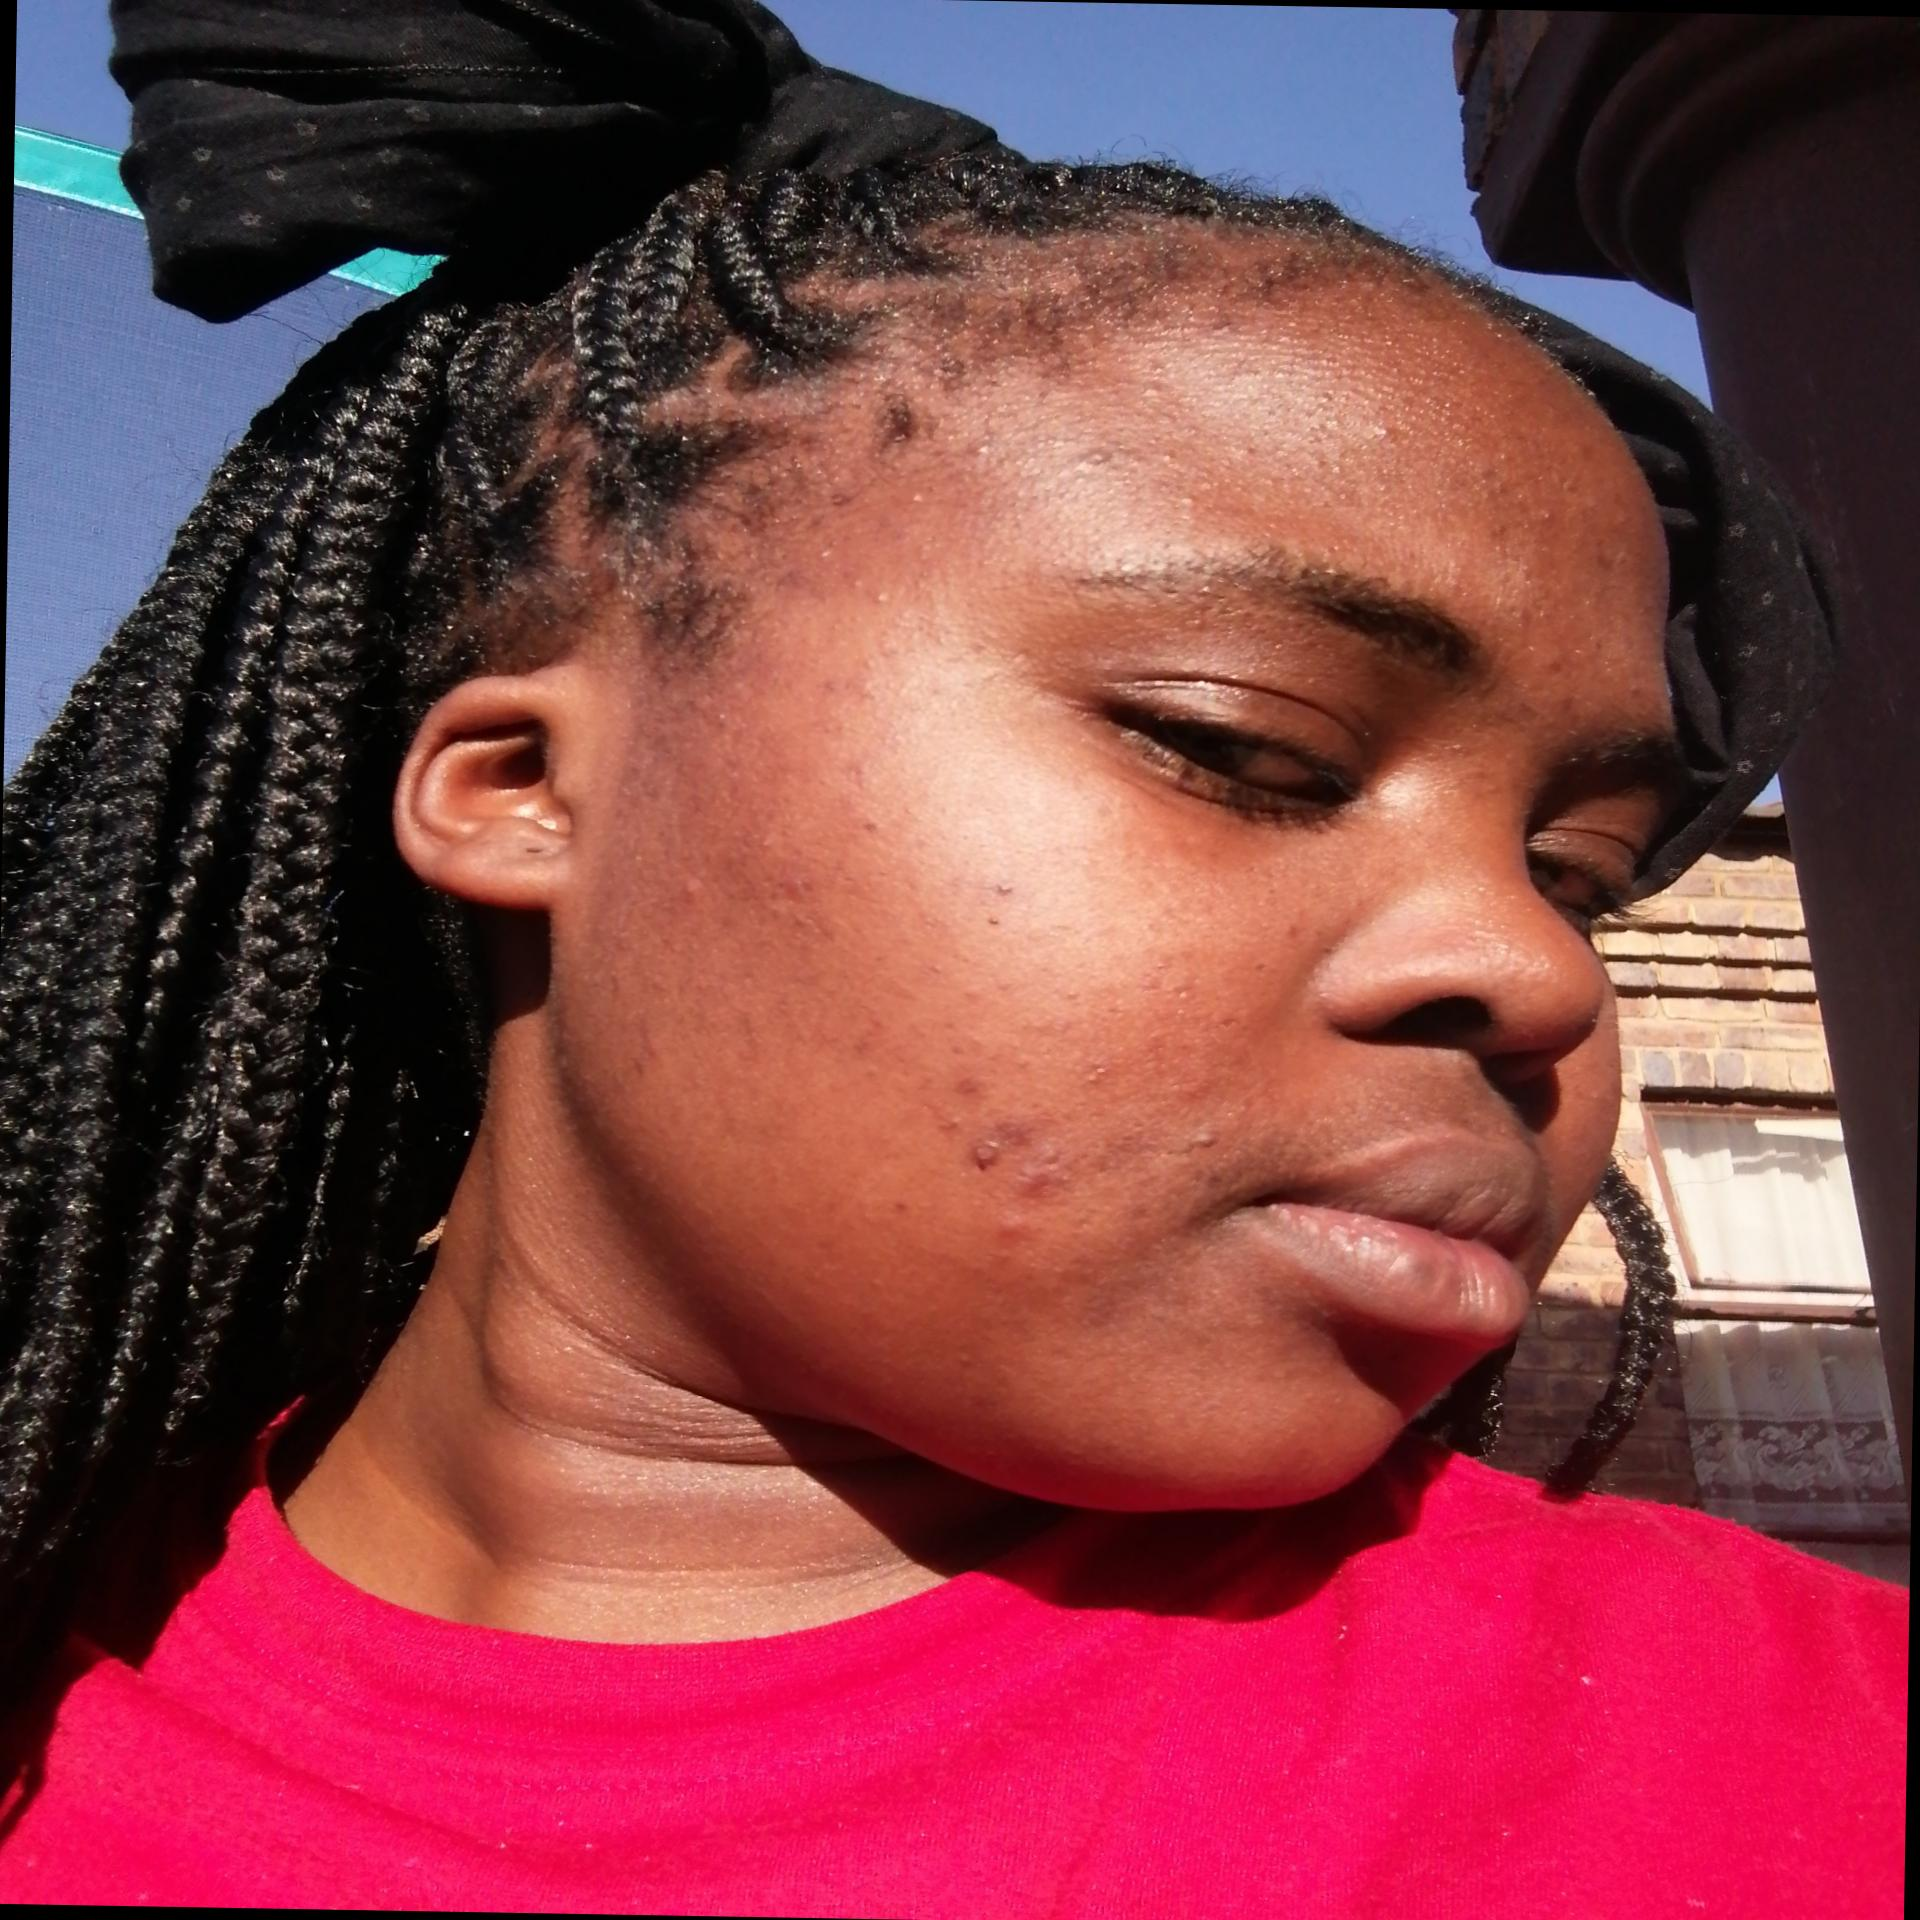Acne: (1006, 1139, 1083, 1201), (960, 1120, 1039, 1167), (992, 1208, 1043, 1255), (811, 673, 886, 702), (636, 1011, 672, 1071), (837, 573, 897, 607), (1069, 441, 1125, 473), (654, 872, 709, 904), (951, 1064, 988, 1099), (1073, 1058, 1111, 1092), (1185, 1122, 1225, 1153), (895, 484, 939, 512), (1157, 489, 1204, 513), (1523, 652, 1568, 677), (986, 874, 1023, 900), (1266, 918, 1303, 944), (951, 979, 988, 1006), (1363, 422, 1405, 445), (1227, 440, 1264, 464), (967, 434, 1000, 461), (1167, 976, 1201, 1000), (1136, 380, 1171, 401), (949, 1345, 981, 1368), (1152, 447, 1185, 468), (1533, 501, 1561, 522), (1486, 443, 1519, 461), (978, 913, 1011, 928), (1619, 679, 1642, 700)
